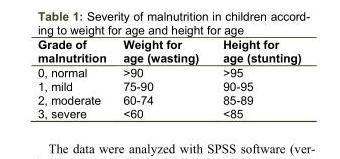table: (36, 37, 300, 119)
table column: (114, 37, 210, 119), (210, 37, 300, 119), (36, 37, 114, 119)
table column header: (36, 37, 300, 64)
table row: (36, 37, 300, 64), (36, 64, 300, 78), (36, 78, 300, 92), (36, 92, 300, 106), (36, 106, 300, 119)
